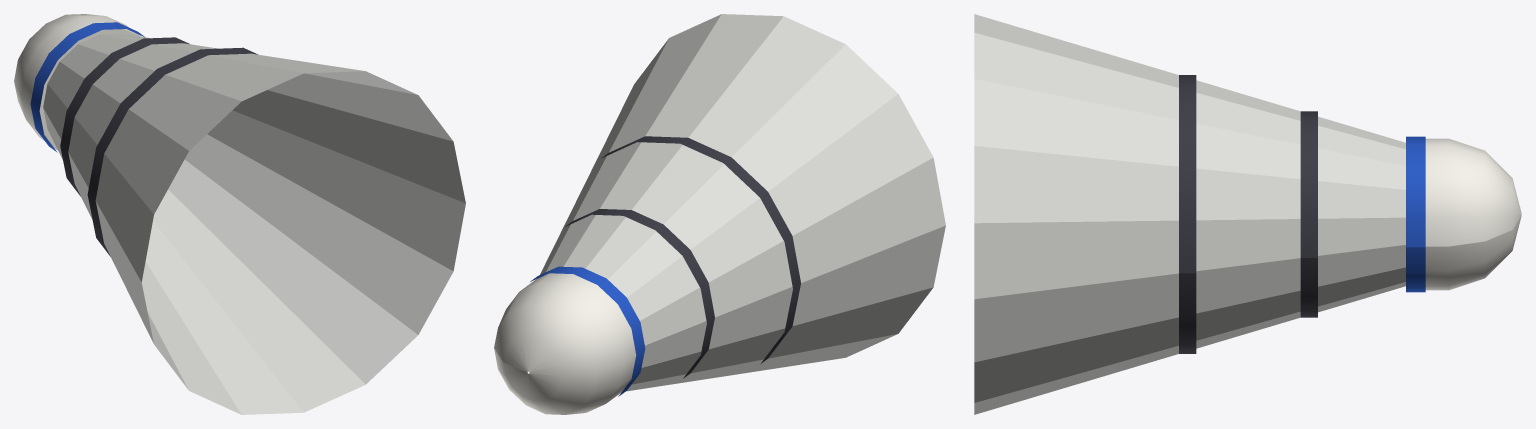
Rendered from shuttlecock.glb.
3 renders of one model, left to right at view 1: azimuth 30°, elevation 25°; view 2: azimuth 150°, elevation 25°; view 3: azimuth 270°, elevation 25°, orthographic. The views are drawn at different scales.
Parts seen in each view (by area): view 1: Shuttlecock; view 2: Shuttlecock; view 3: Shuttlecock.
Boxes of the visible parts, x1,y1,x2,y2 form: Shuttlecock: (14, 14, 465, 414); Shuttlecock: (494, 14, 945, 414); Shuttlecock: (974, 14, 1521, 414).
Size of the model in its own units: 0.066 by 0.066 by 0.09.
